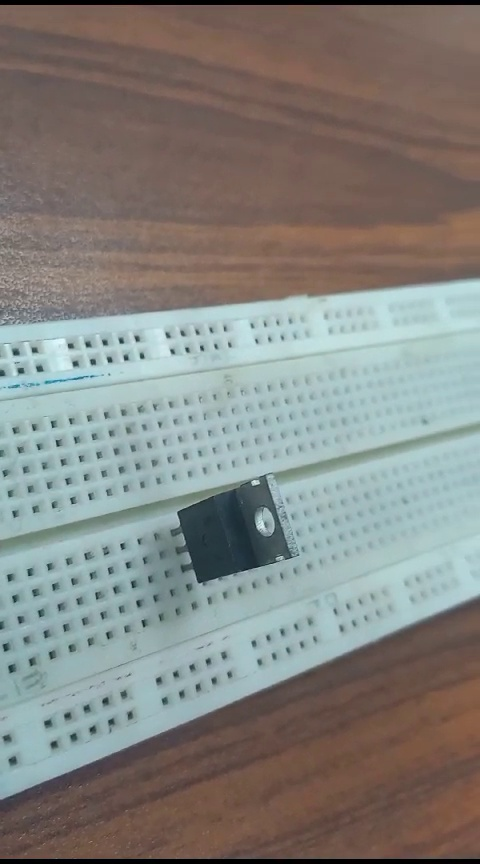voltage regulator: (168, 475, 290, 603)
